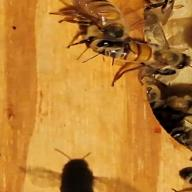Bee: (46, 1, 161, 40), (86, 38, 192, 65)
